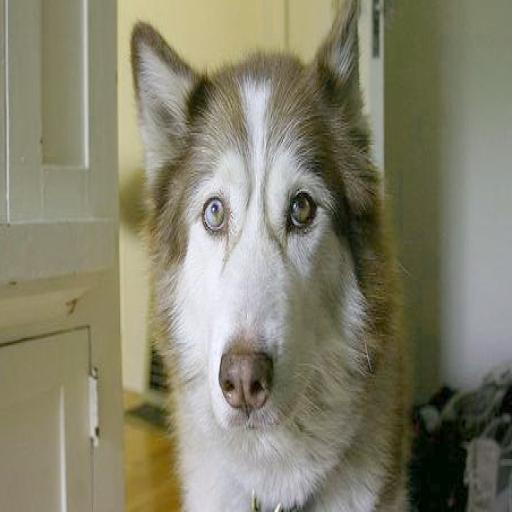dog_face: (137, 21, 373, 424)
